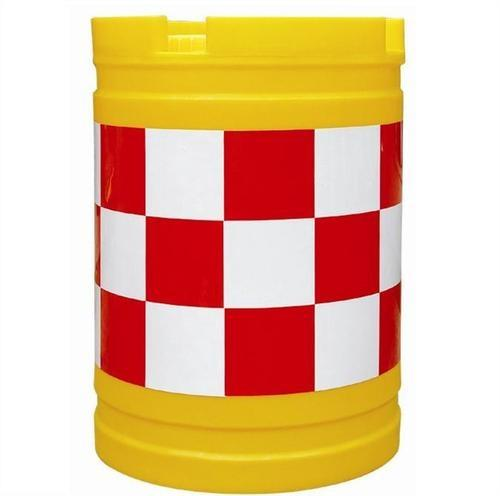cone_barrel: (84, 32, 411, 484)
